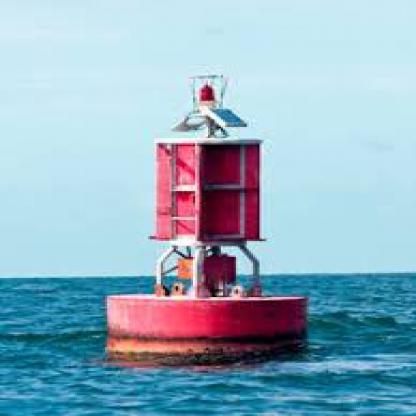buoy: (95, 67, 320, 347)
